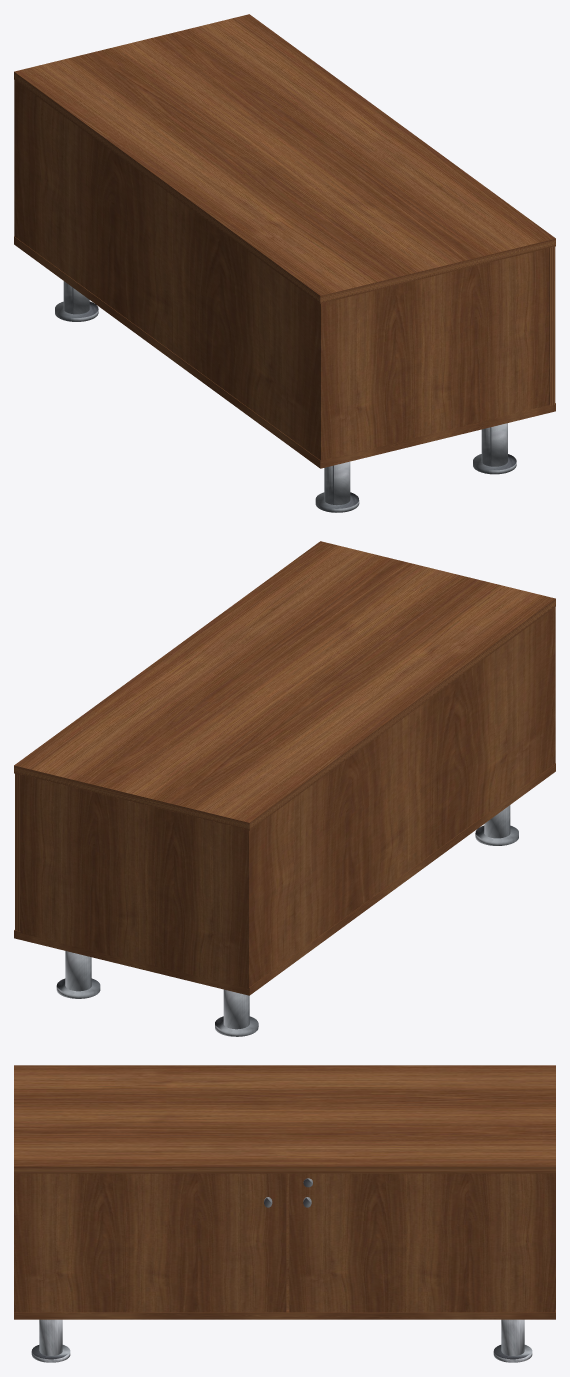
Rendered from muebleSalaEntretenimiento.fbx.
The picture shows the model from 3 angles, top to bottom: view 1: azimuth 30°, elevation 25°; view 2: azimuth 150°, elevation 25°; view 3: azimuth 270°, elevation 25°; orthographic projection. The views are drawn at different scales.
Parts seen in each view (by area): view 1: muebleSalaEntretenimiento; view 2: muebleSalaEntretenimiento; view 3: muebleSalaEntretenimiento.
Boxes of the visible parts, box(x1,y1,x2,y2) form: muebleSalaEntretenimiento: box(14, 14, 555, 512); muebleSalaEntretenimiento: box(14, 541, 555, 1036); muebleSalaEntretenimiento: box(14, 1065, 555, 1362).
Bounding box in the file's own units: 31.56 × 29.25 × 70.02.
